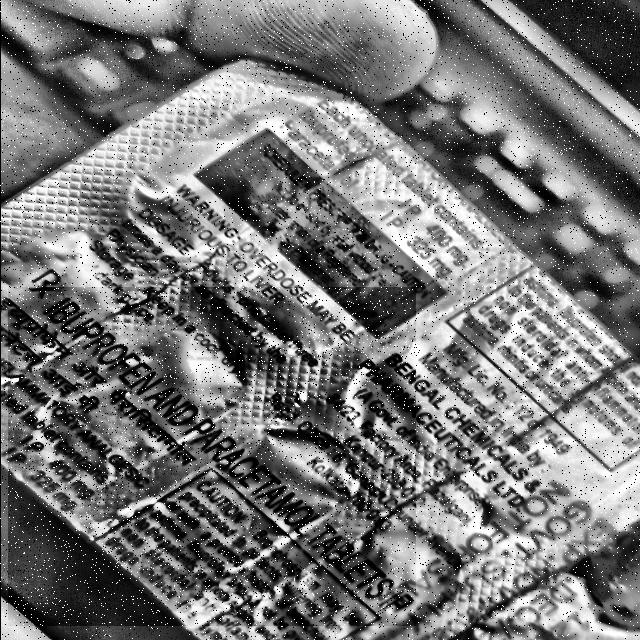IBUPROFEN AND PARACETAMOL TABLETS: (8, 288, 415, 626)
